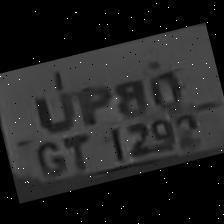0: (139, 58, 189, 113)
1: (92, 117, 126, 164)
2: (114, 113, 154, 158), (169, 102, 205, 146)
8: (105, 68, 151, 120)
9: (141, 108, 178, 150)
G: (26, 132, 68, 180)
P: (64, 73, 118, 131)
T: (58, 126, 96, 174)
U: (22, 72, 78, 135)
